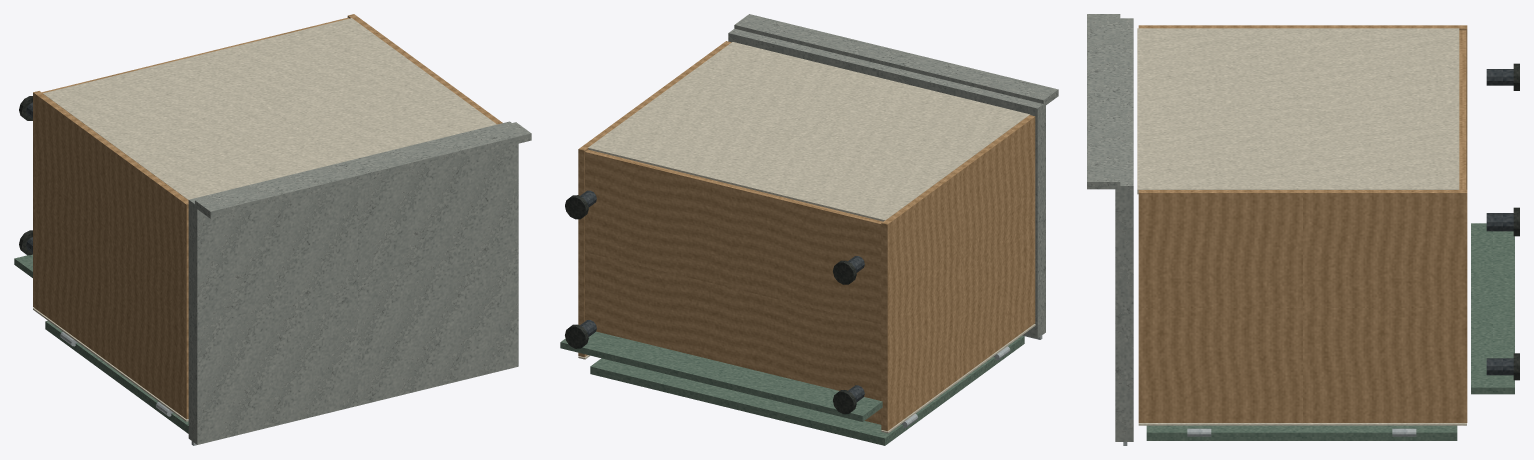
File: PROJECT_Z_Kitchen_BaseStorage900_Prefab.glb
3 renders of one model, left to right at view 1: azimuth 30°, elevation 25°; view 2: azimuth 150°, elevation 25°; view 3: azimuth 270°, elevation 25°, orthographic. The views are drawn at different scales.
Visible parts, largest first — view 1: BASE_STORAGE_900_QuartzWorktop, BASE_STORAGE_900_CabinetBack, BASE_STORAGE_900_CarcassSide_L, BASE_STORAGE_900_QuartzRearUpstand, BASE_STORAGE_900_L_DoorLeaf, BASE_STORAGE_900_CarcassSide_R, BASE_STORAGE_900_CabinetBottom, BASE_STORAGE_900_EdgeBand_L; view 2: BASE_STORAGE_900_CabinetBottom, BASE_STORAGE_900_CabinetBack, BASE_STORAGE_900_CarcassSide_L, BASE_STORAGE_900_RecessedToeKick, BASE_STORAGE_900_QuartzWorktop, BASE_STORAGE_900_QuartzRearUpstand, BASE_STORAGE_900_L_DoorLeaf, BASE_STORAGE_900_R_DoorLeaf, BASE_STORAGE_900_CarcassSide_R, BASE_STORAGE_900_EdgeBand_L; view 3: BASE_STORAGE_900_CarcassSide_R, BASE_STORAGE_900_CabinetBack, BASE_STORAGE_900_QuartzWorktop, BASE_STORAGE_900_RecessedToeKick, BASE_STORAGE_900_QuartzRearUpstand, BASE_STORAGE_900_R_DoorLeaf, BASE_STORAGE_900_CarcassSide_L, BASE_STORAGE_900_CabinetBottom, BASE_STORAGE_900_EdgeBand_R, BASE_STORAGE_900_Leveller_R_0, BASE_STORAGE_900_Leveller_R_1, BASE_STORAGE_900_Leveller_L_1.
Boxes of the visible parts, x1,y1,x2,y2 form: BASE_STORAGE_900_QuartzWorktop: (188, 121, 518, 444); BASE_STORAGE_900_CabinetBack: (43, 18, 496, 199); BASE_STORAGE_900_CarcassSide_L: (33, 91, 188, 419); BASE_STORAGE_900_QuartzRearUpstand: (195, 122, 531, 218); BASE_STORAGE_900_L_DoorLeaf: (45, 320, 188, 433); BASE_STORAGE_900_CarcassSide_R: (347, 14, 502, 124); BASE_STORAGE_900_CabinetBottom: (42, 17, 348, 93); BASE_STORAGE_900_EdgeBand_L: (33, 308, 188, 421); BASE_STORAGE_900_CabinetBottom: (585, 149, 882, 424); BASE_STORAGE_900_CabinetBack: (588, 42, 1030, 221); BASE_STORAGE_900_CarcassSide_L: (881, 115, 1035, 431); BASE_STORAGE_900_RecessedToeKick: (560, 331, 882, 421); BASE_STORAGE_900_QuartzWorktop: (728, 28, 1045, 338); BASE_STORAGE_900_QuartzRearUpstand: (734, 14, 1058, 104); BASE_STORAGE_900_L_DoorLeaf: (736, 335, 1024, 445); BASE_STORAGE_900_R_DoorLeaf: (590, 358, 748, 409); BASE_STORAGE_900_CarcassSide_R: (578, 41, 731, 357); BASE_STORAGE_900_EdgeBand_L: (881, 324, 1035, 433); BASE_STORAGE_900_CarcassSide_R: (1138, 189, 1467, 422); BASE_STORAGE_900_CabinetBack: (1137, 28, 1459, 194); BASE_STORAGE_900_QuartzWorktop: (1115, 18, 1133, 441); BASE_STORAGE_900_RecessedToeKick: (1471, 223, 1514, 394); BASE_STORAGE_900_QuartzRearUpstand: (1087, 14, 1120, 189); BASE_STORAGE_900_R_DoorLeaf: (1146, 425, 1457, 440); BASE_STORAGE_900_CarcassSide_L: (1138, 25, 1467, 189); BASE_STORAGE_900_CabinetBottom: (1459, 30, 1466, 189); BASE_STORAGE_900_EdgeBand_R: (1138, 423, 1466, 425); BASE_STORAGE_900_Leveller_R_0: (1486, 358, 1513, 375); BASE_STORAGE_900_Leveller_R_1: (1486, 214, 1513, 231); BASE_STORAGE_900_Leveller_L_1: (1486, 69, 1513, 85).
Size of the model in its own units: 0.902 by 0.7155 by 0.9805.
8 materials, 8 textured.
